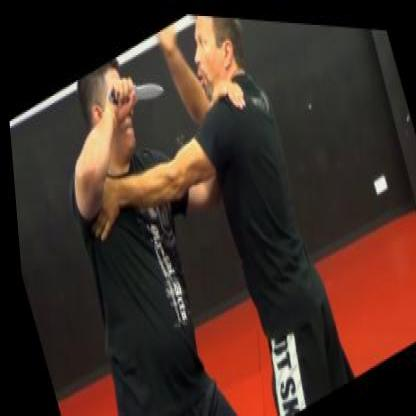knife: (96, 45, 168, 131)
